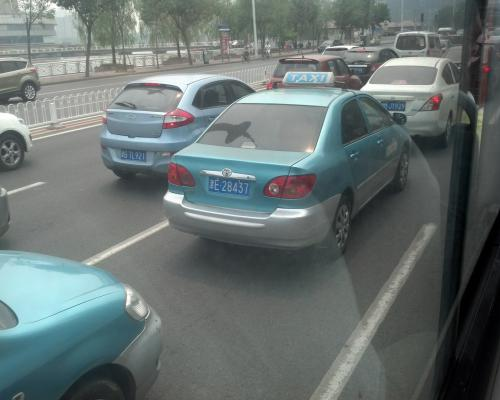Carplate: (204, 170, 254, 196)
